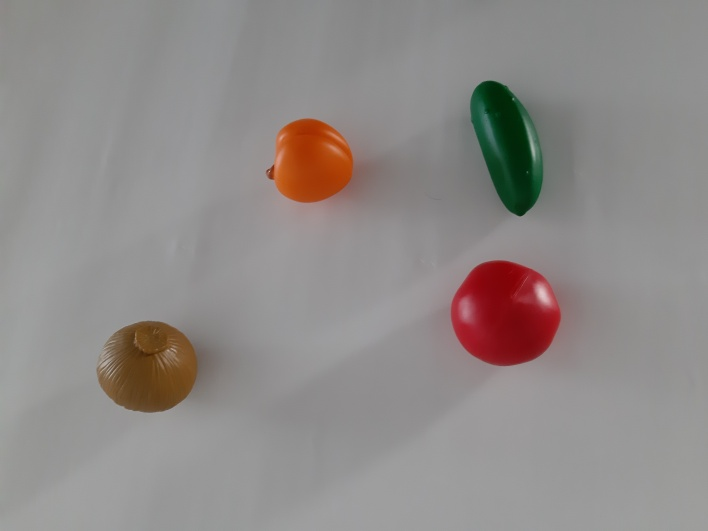apricot: (243, 99, 372, 236)
cucumber: (449, 58, 567, 243)
onion: (86, 296, 214, 432)
tomato: (414, 247, 586, 385)
